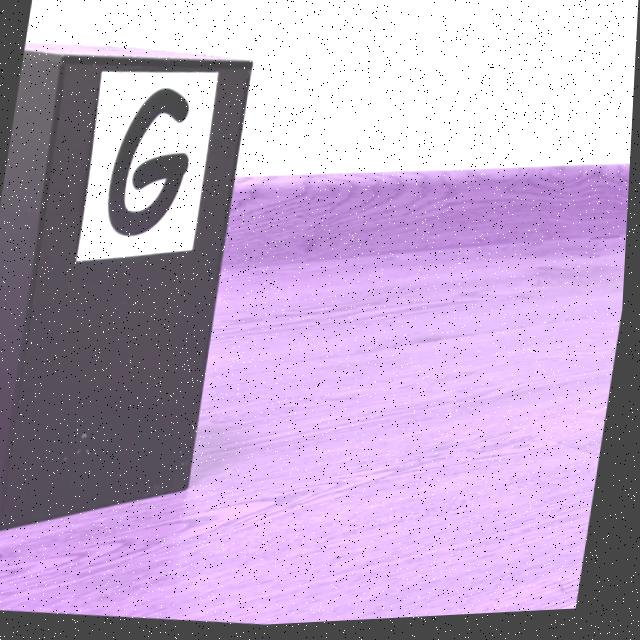G: (109, 89, 190, 237)
